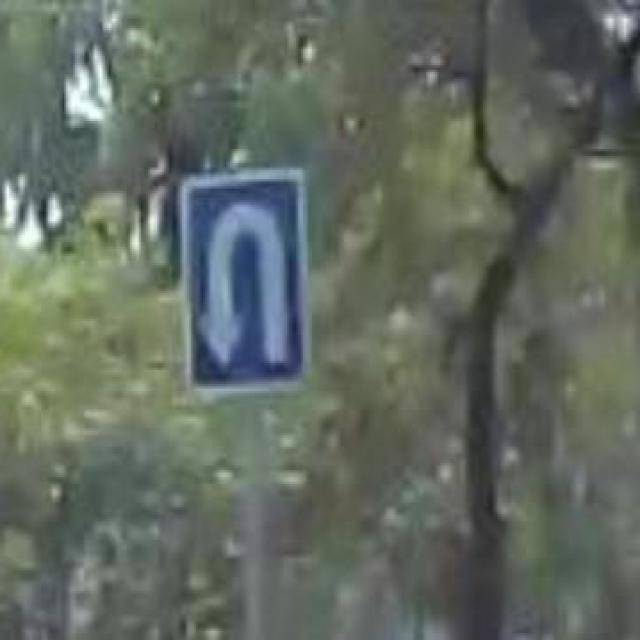U-turn: (182, 175, 312, 392)
